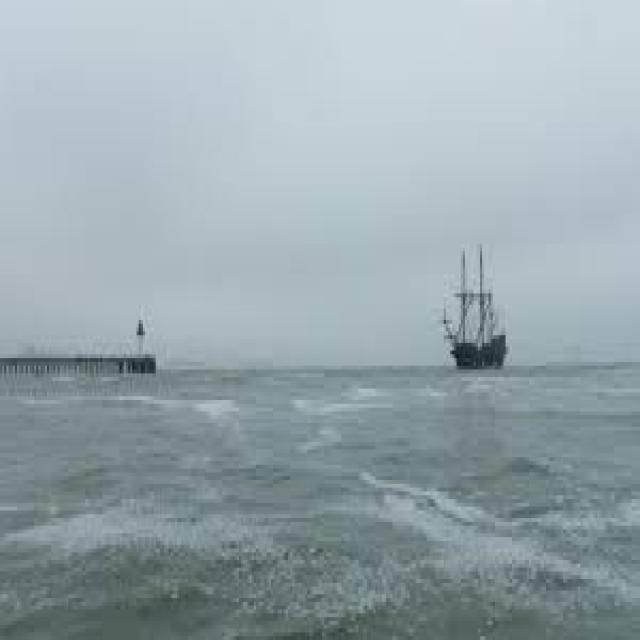fishing boat: (419, 237, 506, 376)
